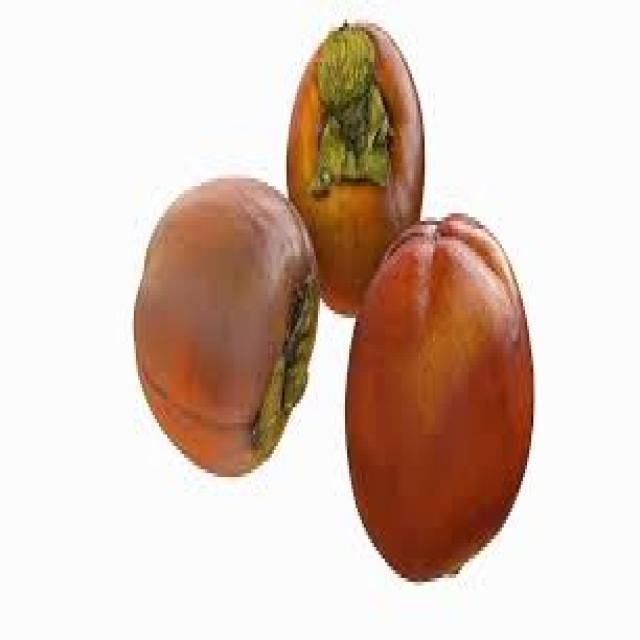food_waste: (136, 23, 531, 574)
